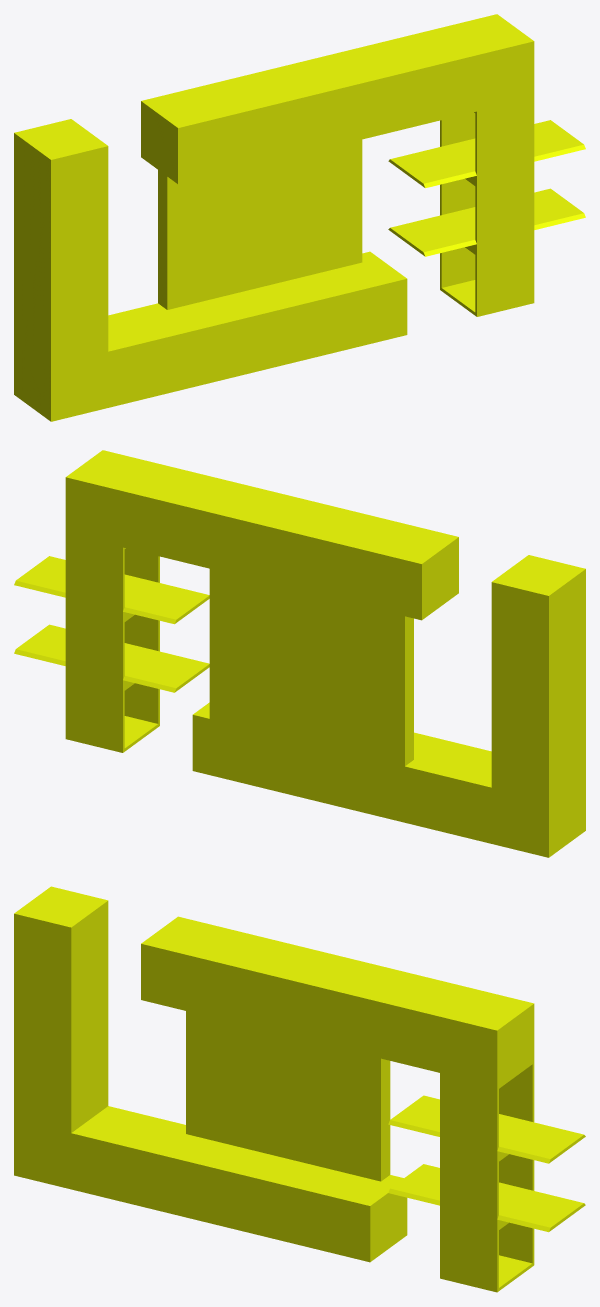
File: TVStand1.FBX
3 views of the same model, one above another, from view 1: azimuth 30°, elevation 25°; view 2: azimuth 150°, elevation 25°; view 3: azimuth 330°, elevation 25° (orthographic).
Visible parts, largest first — view 1: Box026; view 2: Box026; view 3: Box026.
Part boxes in pixels (x1,y1,x2,y2): Box026: [14, 14, 585, 421]; Box026: [14, 450, 585, 857]; Box026: [14, 886, 585, 1292].
Bounding box in the file's own units: 4.41 × 2.07 × 0.5303.
